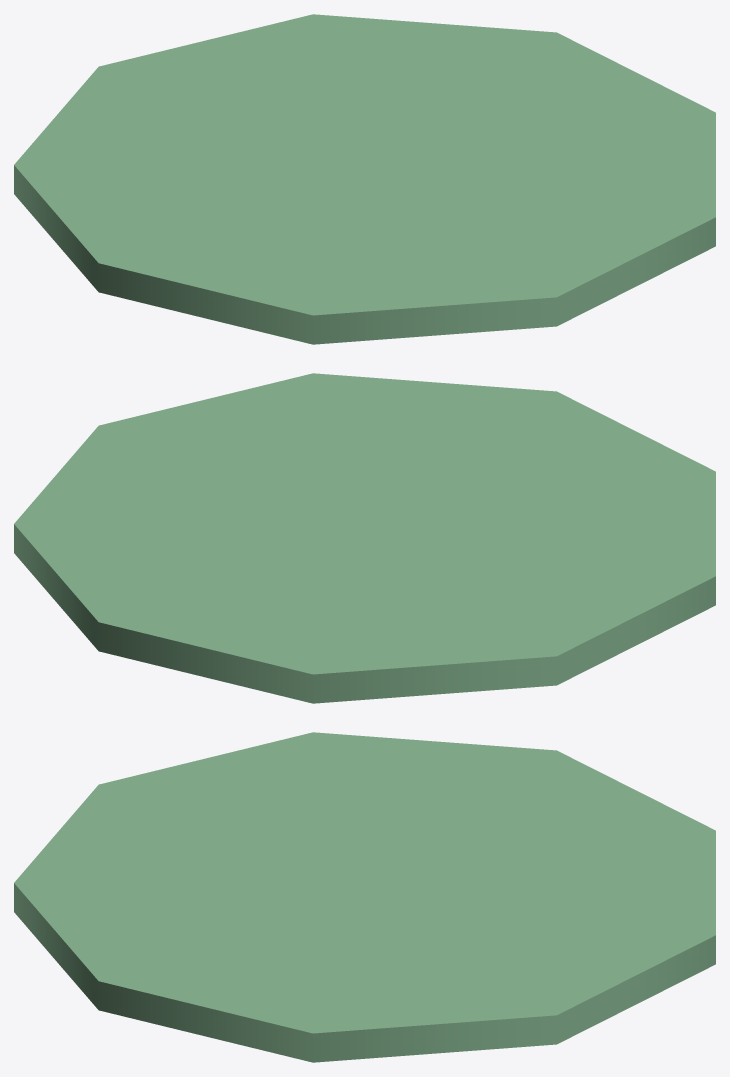
The model's file is lily-pad.gltf.
The picture shows the model from 3 angles, top to bottom: view 1: azimuth 30°, elevation 25°; view 2: azimuth 150°, elevation 25°; view 3: azimuth 270°, elevation 25°; orthographic projection.
Parts seen in each view (by area): view 1: LilyPad; view 2: LilyPad; view 3: LilyPad.
Part boxes in pixels (left/top/right/bottom): LilyPad: left=14, top=14, right=715, bottom=344; LilyPad: left=14, top=373, right=715, bottom=703; LilyPad: left=14, top=732, right=715, bottom=1062.
Size of the model in its own units: 0.8863 by 0.04 by 0.8729.
